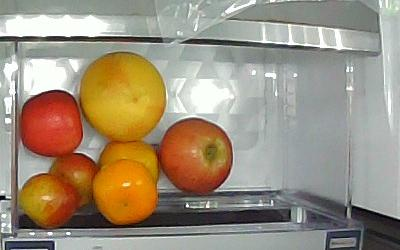apple: (158, 117, 233, 195), (20, 89, 84, 160)
grapefruit: (80, 52, 167, 142)
persimmon: (92, 158, 157, 224), (98, 140, 159, 183)
prune: (19, 173, 81, 229), (48, 154, 100, 208)
